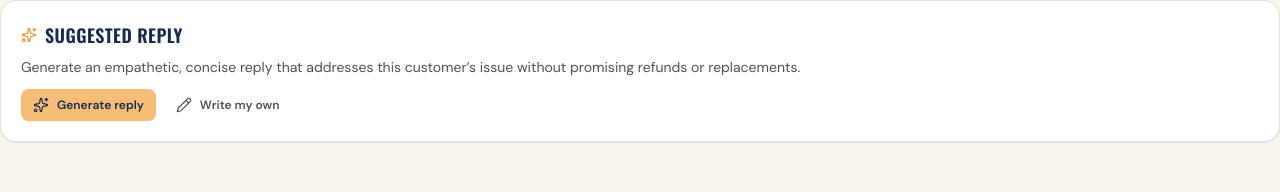
Scenario: suggested replies › shows the server error when generation fails
Step 1. Click the button "Generate reply" → click(88, 105), box 21,89 -> 156,121
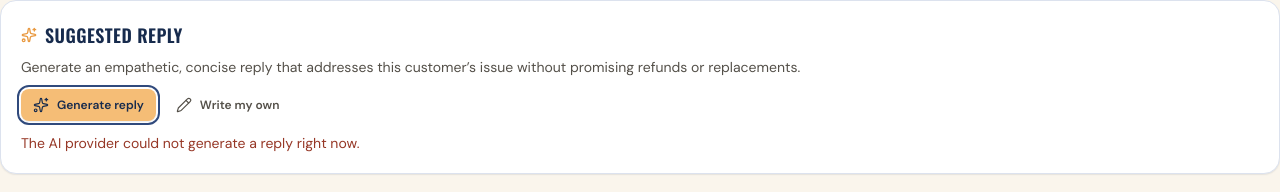
Expected: the message shows "could not generate a reply", 21,134 -> 359,152
